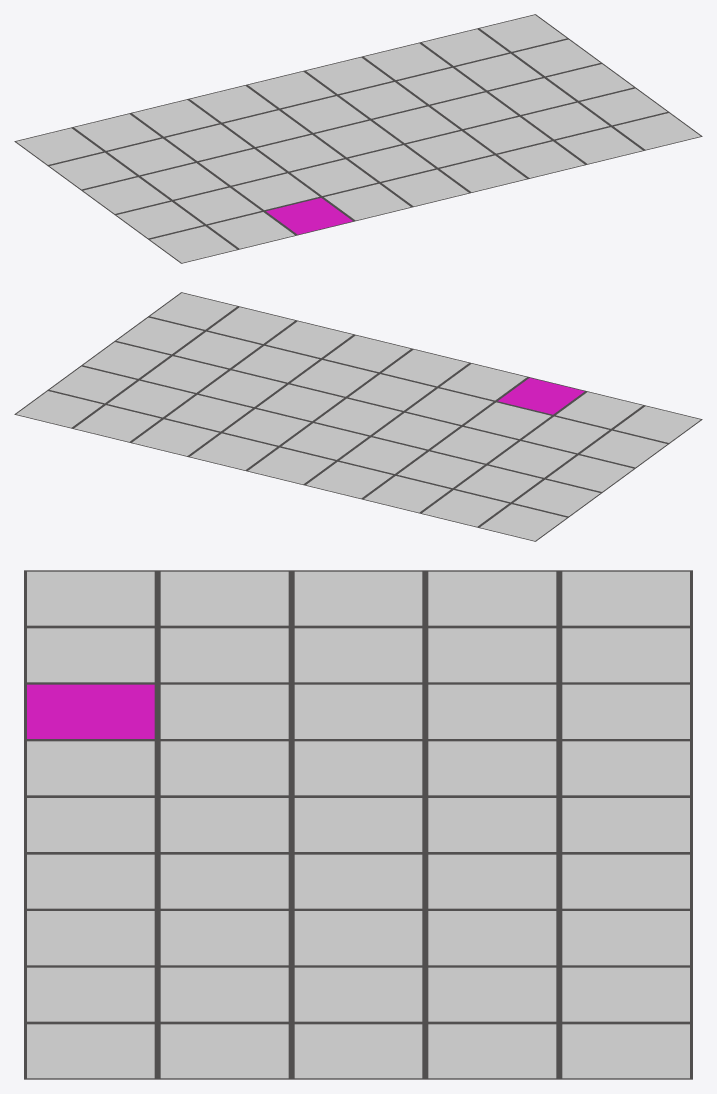
3 renders of one model, top to bottom at view 1: azimuth 30°, elevation 25°; view 2: azimuth 150°, elevation 25°; view 3: azimuth 270°, elevation 25°, orthographic. The views are drawn at different scales.
Visible parts, largest first — view 1: Plane.001; view 2: Plane.001; view 3: Plane.001.
Boxes of the visible parts, left/top/right/bottom form: Plane.001: left=14, top=14, right=702, bottom=263; Plane.001: left=14, top=292, right=702, bottom=541; Plane.001: left=24, top=570, right=692, bottom=1079.
Size of the model in its own units: 1381 by 6.04e-05 by 767.
